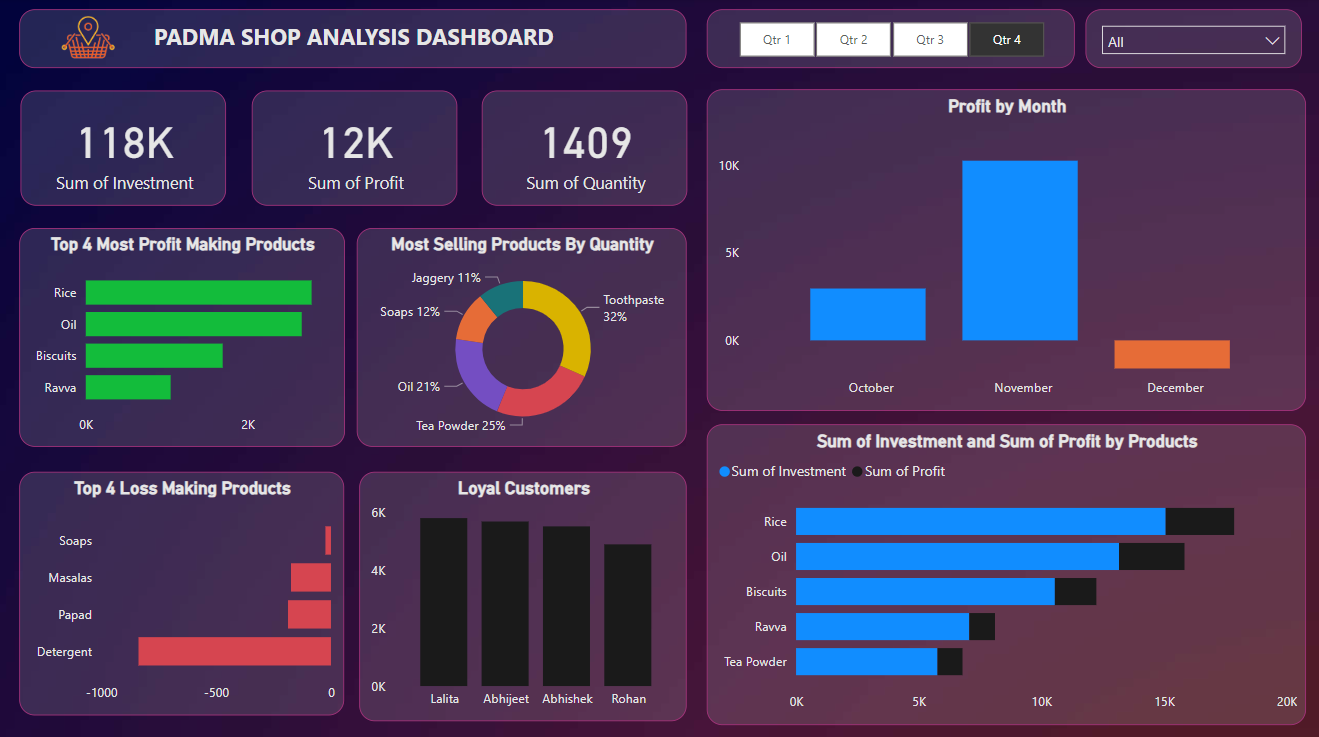

This screenshot's page, from the dashboard's own definition file:
{"tool":"powerbi","page":{"name":"Page 1","canvas":[1280,720],"ordinal":0},"visuals":[{"type":"textbox","box":[20,11.4,644.3,57.1],"z":0},{"type":"columnChart","title":"Profit by Month","fields":{"Category":["Orders.Order Date.Variation.Date Hierarchy.Month"],"Y":["Details.Profit"]},"box":[684.3,88.6,578.6,310],"z":1000},{"type":"barChart","fields":{"Category":["Details.Sub-Category"],"Y":["Details.Amount","Details.Profit"]},"box":[684.3,411.4,578.6,290],"z":2000},{"type":"donutChart","title":"Most Selling Products By Quantity","fields":{"Category":["Details.Sub-Category"],"Y":["Details.Quantity"]},"box":[345.7,221.4,318.6,211.4],"z":3000},{"type":"card","fields":{"Values":["Details.Quantity"]},"box":[466.4,89.2,198.7,110.9],"z":4000},{"type":"barChart","title":"Top 4 Most Profit Making Products","fields":{"Category":["Details.Sub-Category"],"Y":["Details.Profit"]},"box":[20,221.4,314.3,211.4],"z":5000},{"type":"columnChart","title":"Loyal Customers","fields":{"Category":["Orders.CustomerName"],"Y":["Details.Amount"]},"box":[348.8,457,316.4,240.6],"z":6000},{"type":"slicer","fields":{"Values":["Orders.Order Date.Variation.Date Hierarchy.Quarter"]},"box":[684.1,10.8,355.6,56.8],"z":7000},{"type":"slicer","fields":{"Values":["Orders.State"]},"box":[1050,11.4,208.6,57.1],"z":8000},{"type":"barChart","title":"Top 4 Loss Making Products","fields":{"Category":["Details.Sub-Category"],"Y":["Details.Profit"]},"box":[20.3,457,313.6,235.2],"z":9000},{"type":"image","box":[52.7,0,68.9,75.7],"z":10000},{"type":"card","fields":{"Values":["Details.Profit"]},"box":[244.7,89.2,198.7,110.9],"z":11000},{"type":"card","fields":{"Values":["Details.Investment"]},"box":[21.6,89.2,198.7,110.9],"z":12000}]}

Visuals, with their boxes in screenshot pixels (x1, y1, x2, y2), scaled from the page's 1280x720 canvas onto the 1319x737 screenshot:
textbox: box=[21, 12, 685, 70]
"Profit by Month" columnChart: box=[705, 91, 1301, 408]
barChart - Details.Sub-Category x Details.Amount: box=[705, 421, 1301, 718]
"Most Selling Products By Quantity" donutChart: box=[356, 227, 685, 443]
card - Details.Quantity: box=[481, 91, 685, 205]
"Top 4 Most Profit Making Products" barChart: box=[21, 227, 344, 443]
"Loyal Customers" columnChart: box=[359, 468, 685, 714]
slicer - Orders.Order Date.Variation.Date Hierarchy.Quarter: box=[705, 11, 1071, 69]
slicer - Orders.State: box=[1082, 12, 1297, 70]
"Top 4 Loss Making Products" barChart: box=[21, 468, 344, 709]
image: box=[54, 0, 125, 77]
card - Details.Profit: box=[252, 91, 457, 205]
card - Details.Investment: box=[22, 91, 227, 205]
